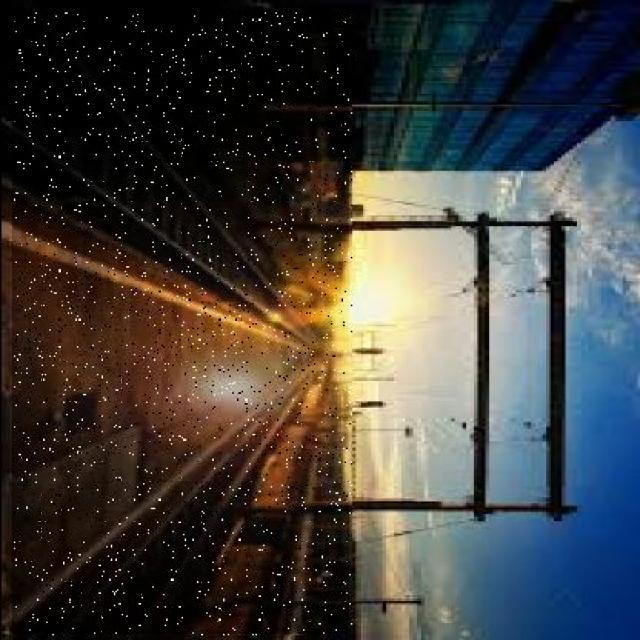rail: (14, 14, 350, 635)
